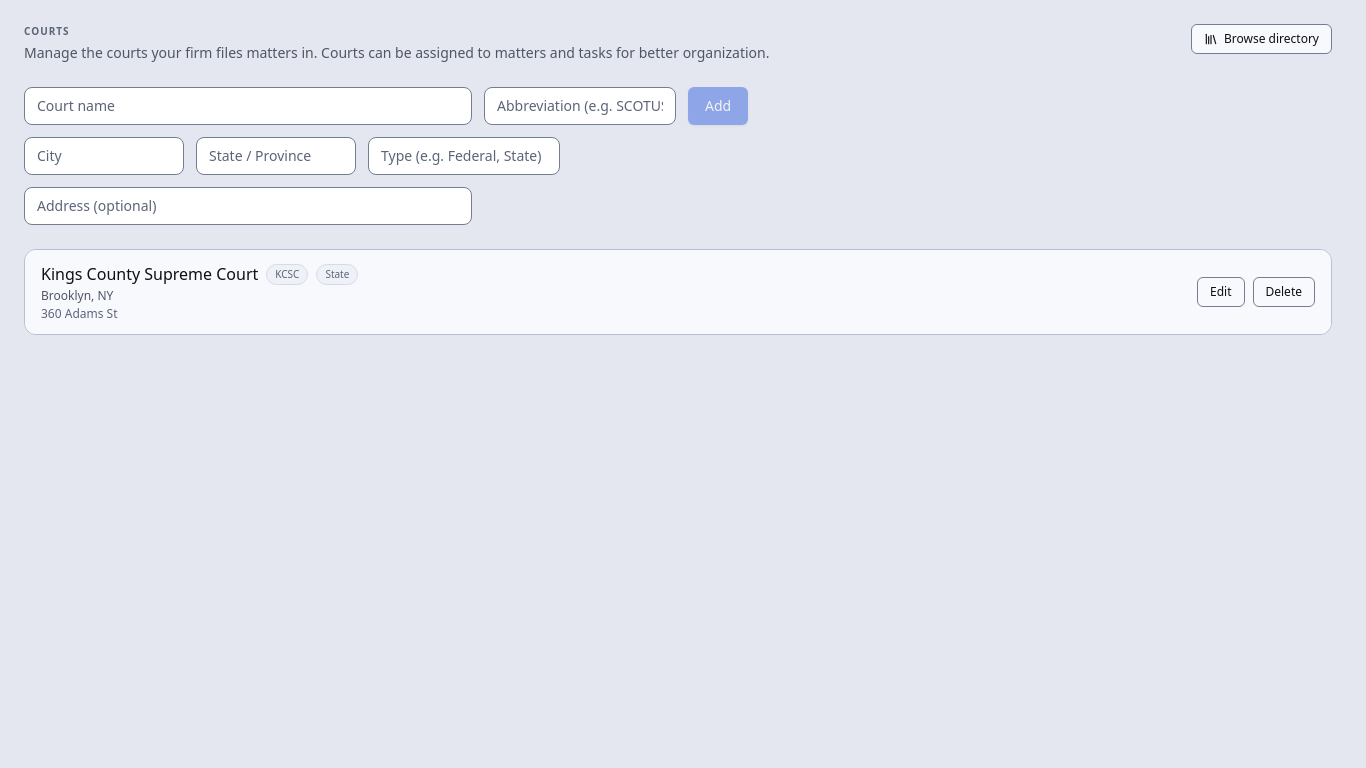
it: deleting a court › keeps the dialog open and shows the refusal inside it
Expected: the text "Kings County Supreme Court" is shown, [41,262,258,286]
Click the button "Delete": (1284, 292) [1252,277,1315,307]
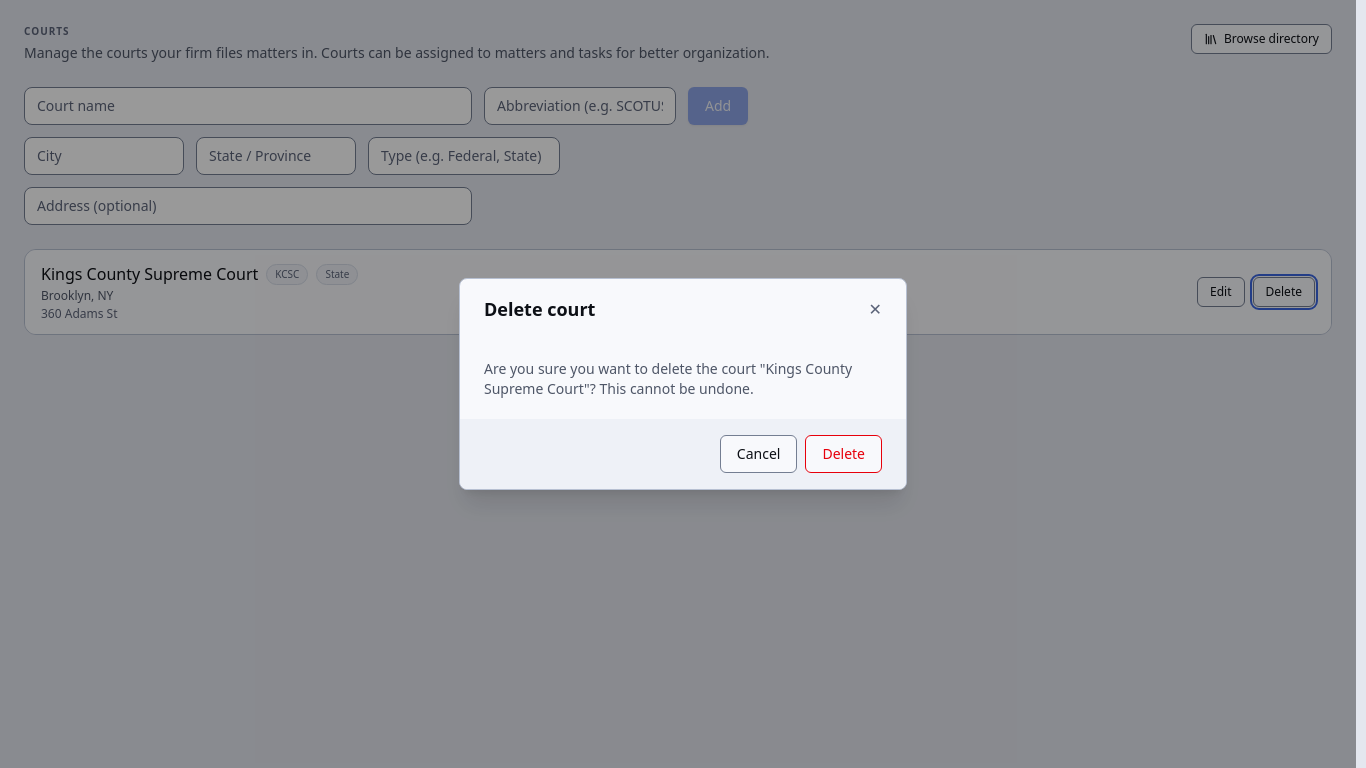
Click the button "Delete": (844, 454) [805,435,882,473]
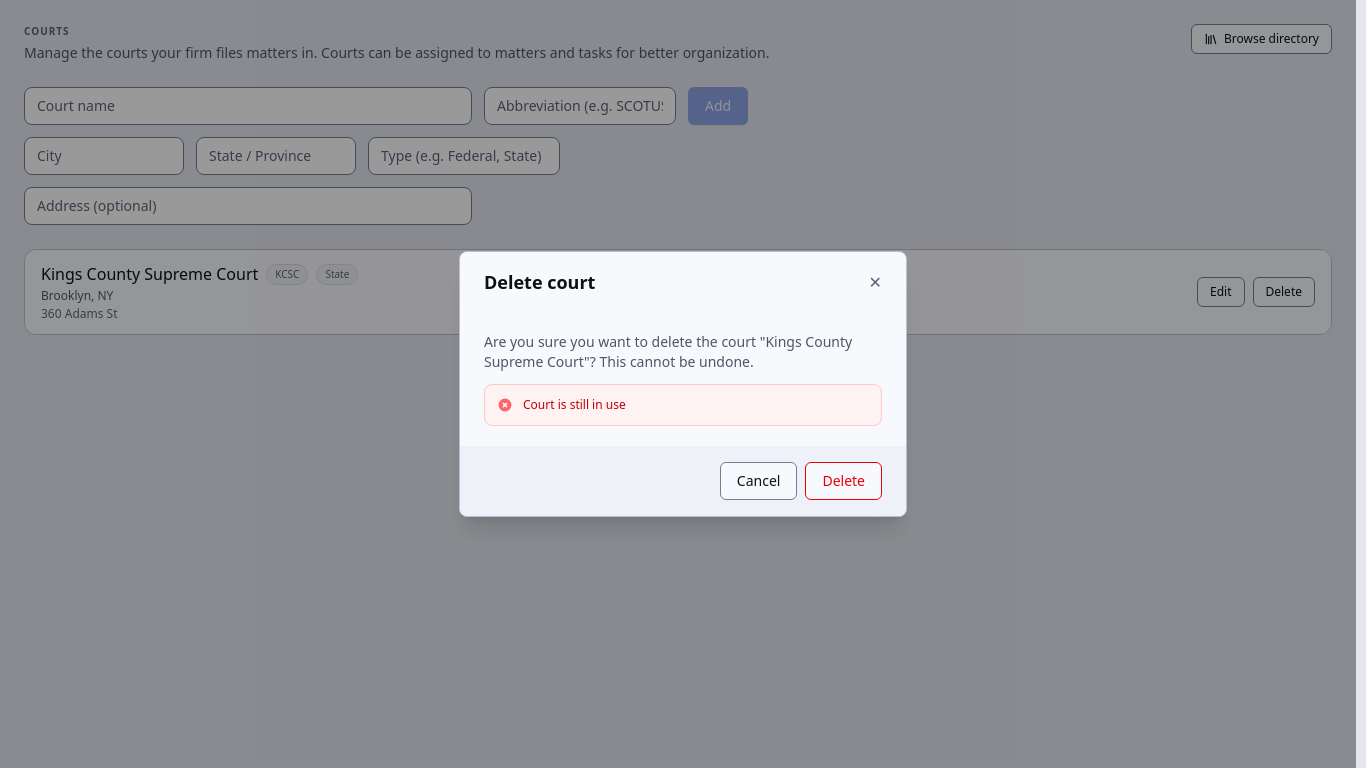
Expected: the dialog is shown, [459,251,907,517]
Expected: the message reads "Court is still in use", [523,396,626,413]
